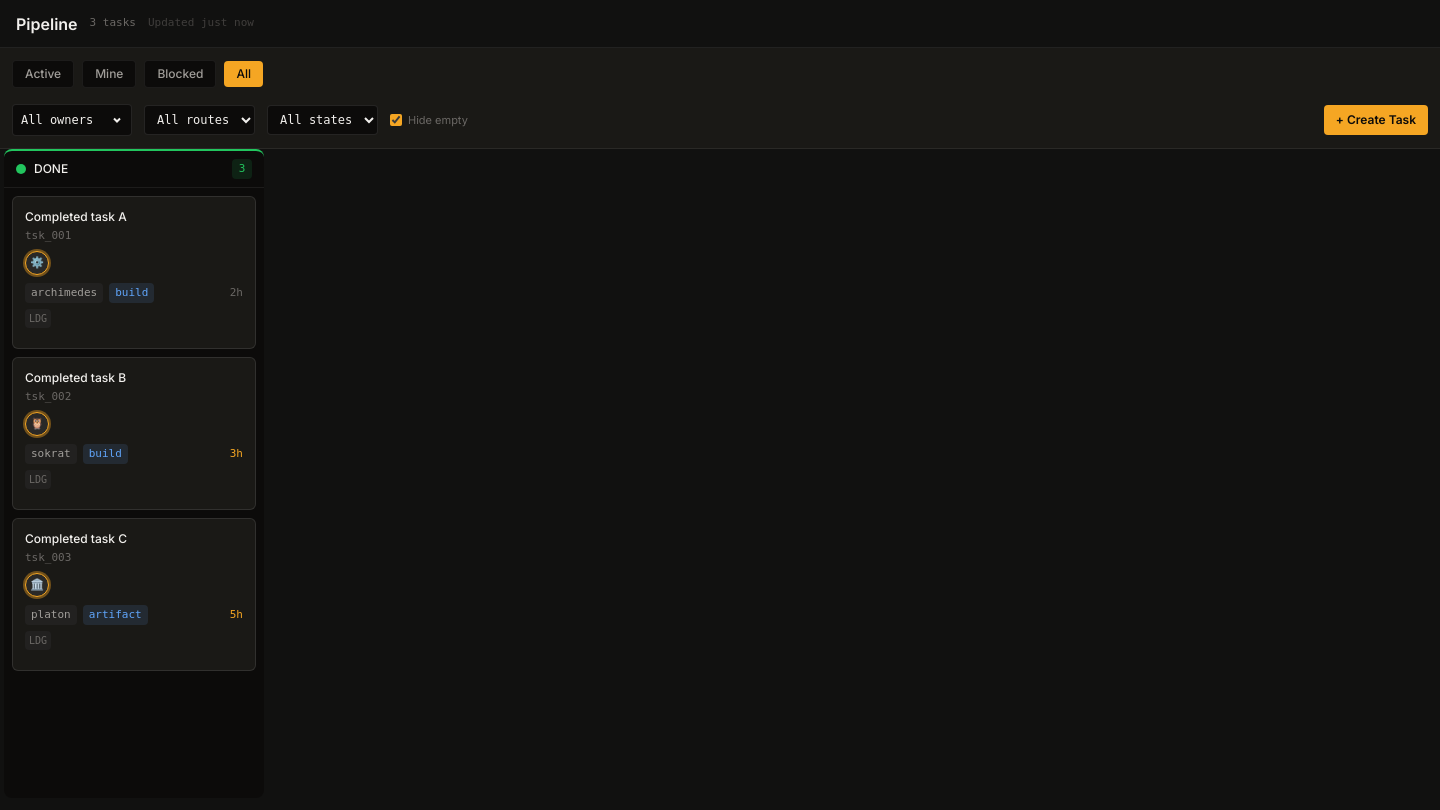
Pipeline — all tasks DONE / empty active view regression › Blocked preset shows 0 tasks when all are DONE (no crash)
Click the button "Blocked" at (180, 74), box [144,60,216,88]
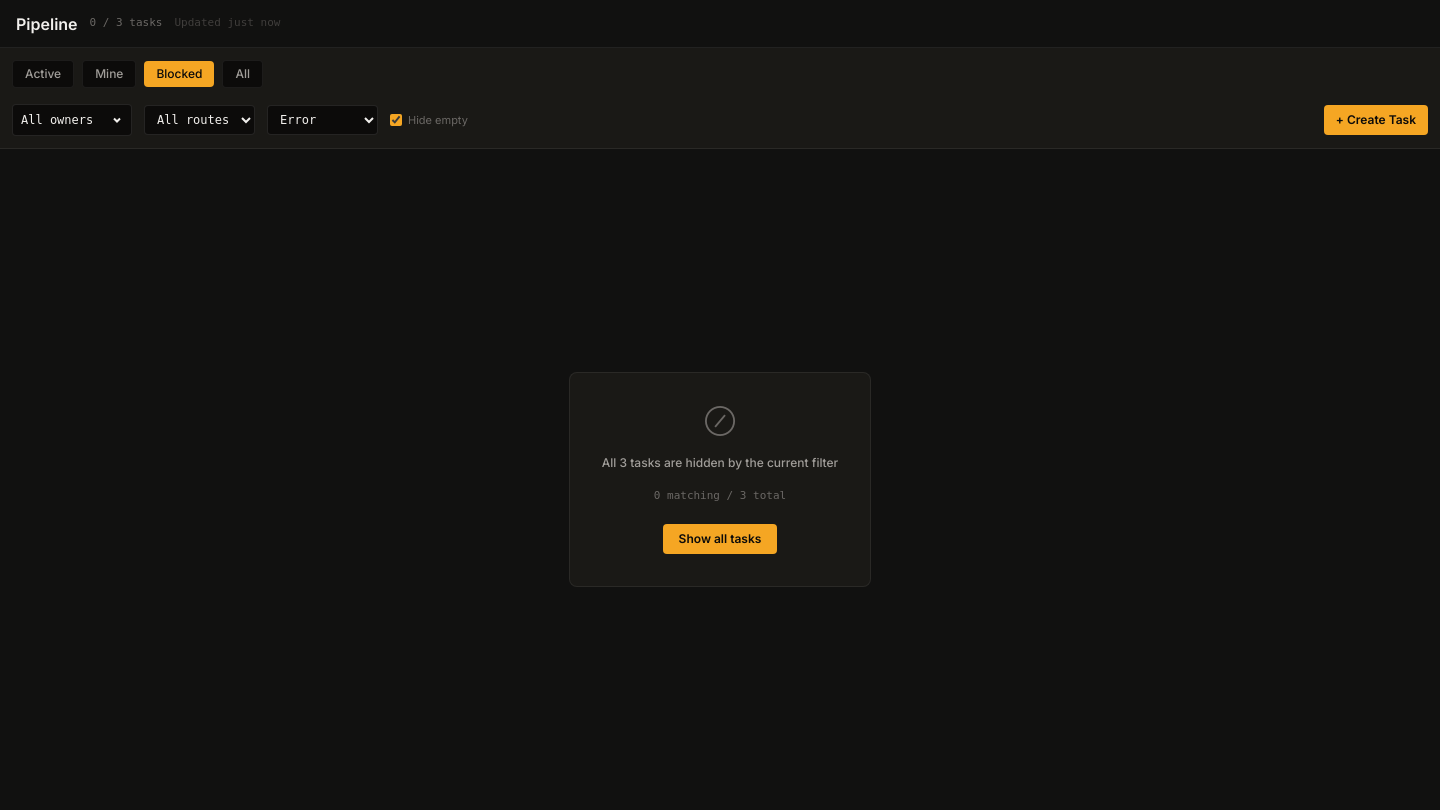
Expected: the text "0 / 3 tasks" is shown, [90,15,162,32]
